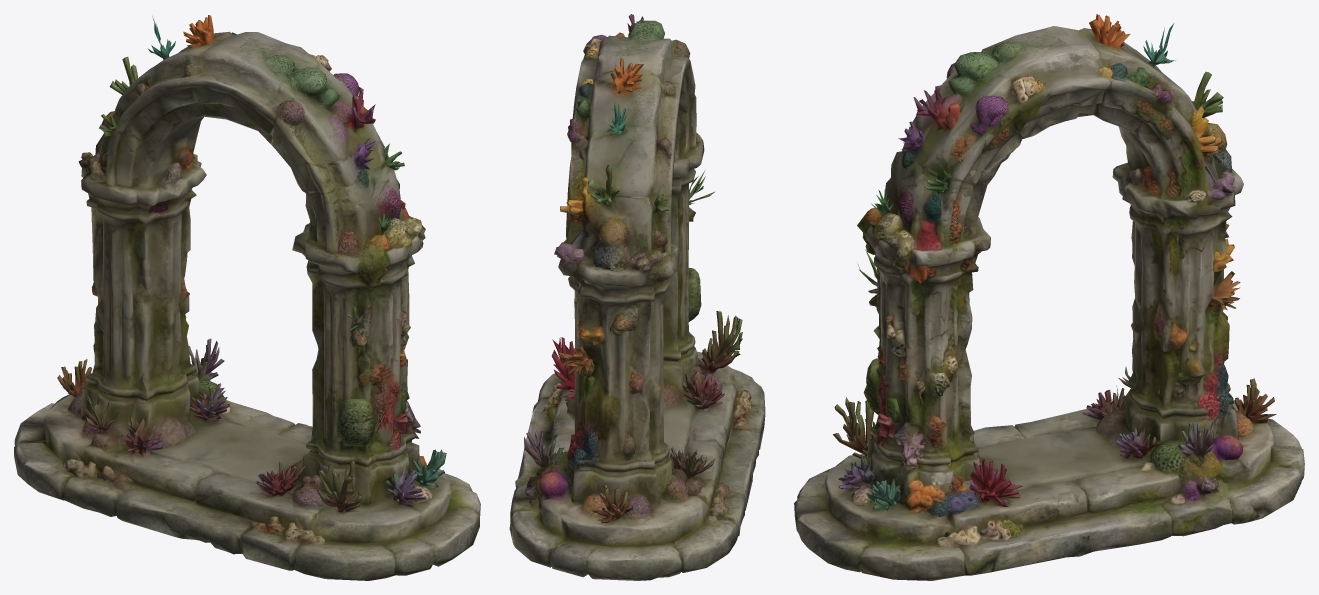
The model's file is tor.glb.
3 views of the same model, side by side, from view 1: azimuth 30°, elevation 25°; view 2: azimuth 150°, elevation 25°; view 3: azimuth 270°, elevation 25° (orthographic). The views are drawn at different scales.
Visible parts, largest first — view 1: tripo_node_53f15ac0-1798-4338-8a32-1c77e141bf4f; view 2: tripo_node_53f15ac0-1798-4338-8a32-1c77e141bf4f; view 3: tripo_node_53f15ac0-1798-4338-8a32-1c77e141bf4f.
Boxes of the visible parts, x1,y1,x2,y2 form: tripo_node_53f15ac0-1798-4338-8a32-1c77e141bf4f: (14, 15, 480, 580); tripo_node_53f15ac0-1798-4338-8a32-1c77e141bf4f: (509, 14, 765, 580); tripo_node_53f15ac0-1798-4338-8a32-1c77e141bf4f: (794, 14, 1304, 580).
Size of the model in its own units: 0.4244 by 0.5999 by 0.5758.
Materials: 1 (1 with a texture image).
